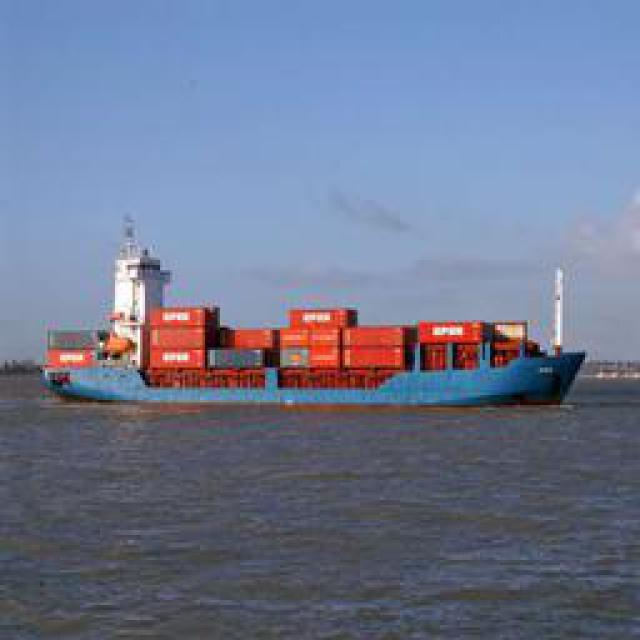Ship: (36, 264, 584, 409)
